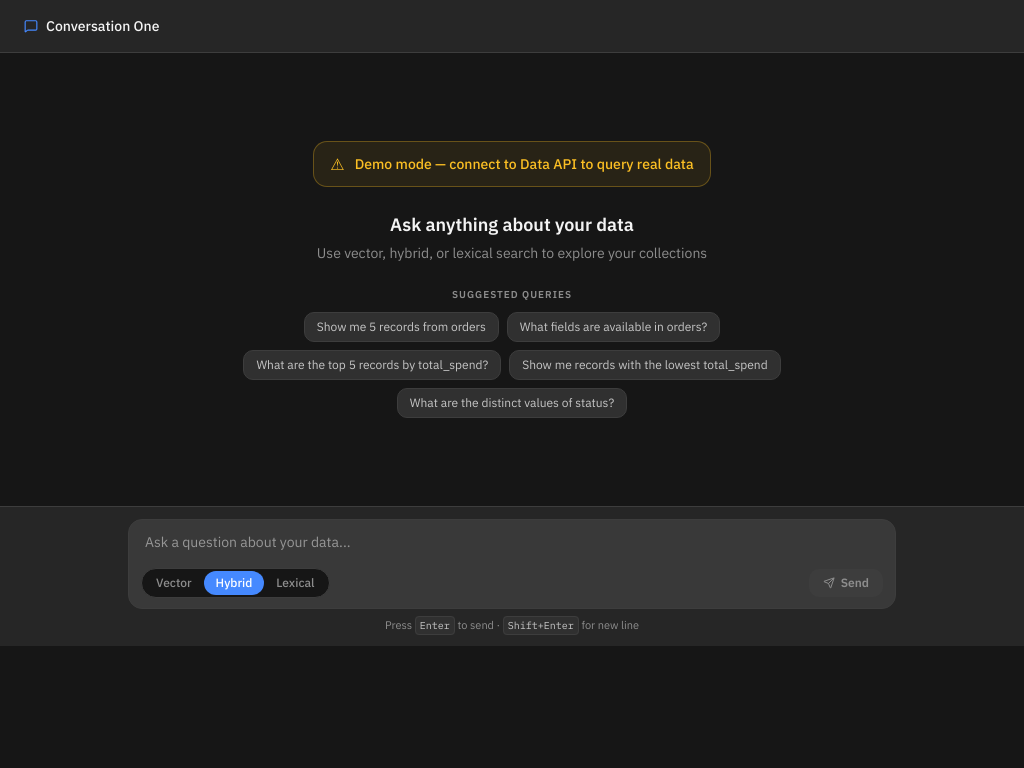
Test: ChatArea › fills the input when a suggested query is clicked
Click the button "What are the top 5 records by total_spend?": [372, 365] box left=243, top=350, right=501, bottom=380
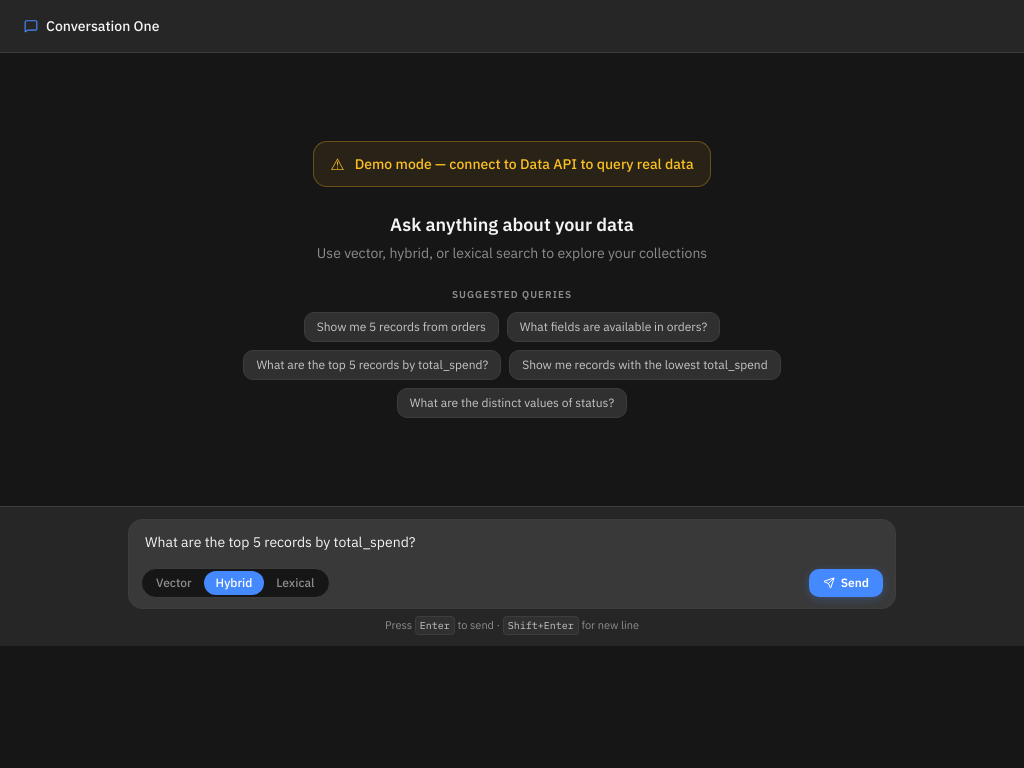
Now the text box with test id "chat-input" holds "What are the top 5 records by total_spend?", box left=129, top=520, right=895, bottom=564
